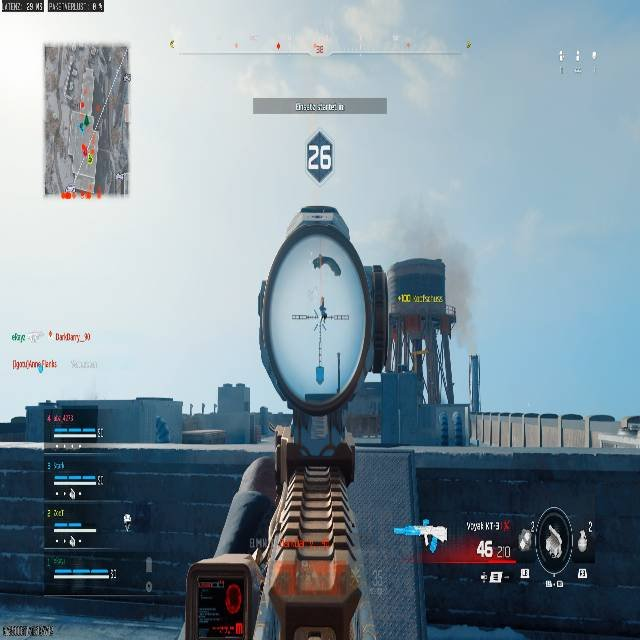player: (154, 415, 170, 442), (317, 302, 328, 331)
